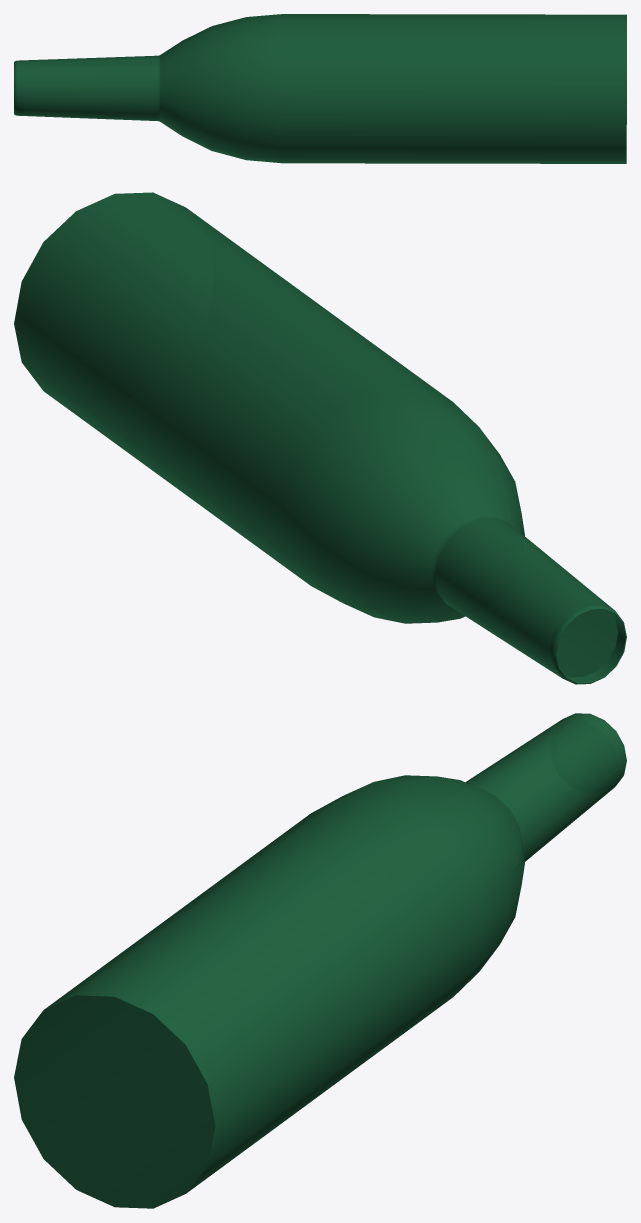
File: Bottle.fbx
The picture shows the model from 3 angles, top to bottom: view 1: azimuth 30°, elevation 25°; view 2: azimuth 150°, elevation 25°; view 3: azimuth 270°, elevation 25°; orthographic projection. The views are drawn at different scales.
Parts seen in each view (by area): view 1: Bottle; view 2: Bottle; view 3: Bottle.
Part boxes in pixels (x1=…): Bottle: x1=14, y1=14, x2=626, y2=163; Bottle: x1=14, y1=192, x2=626, y2=684; Bottle: x1=14, y1=713, x2=626, y2=1208.
Size of the model in its own units: 1.5 by 0.3878 by 1.02.
Materials: 1 (1 with a texture image).
